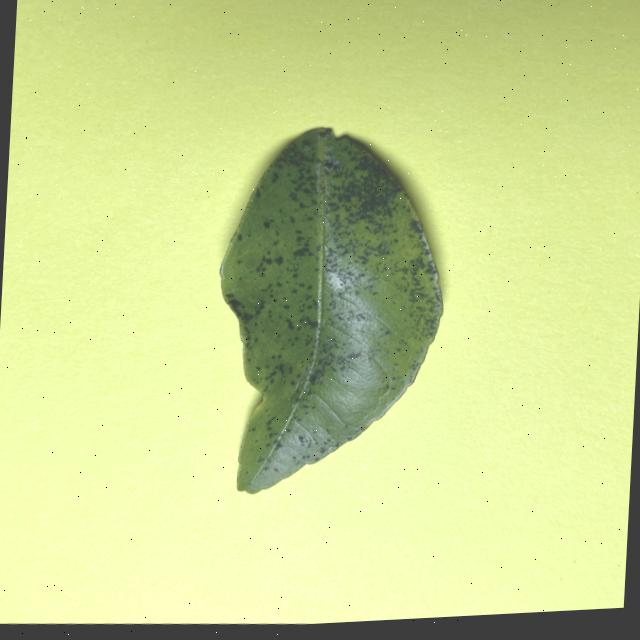sooty_mold: (220, 143, 442, 492)
